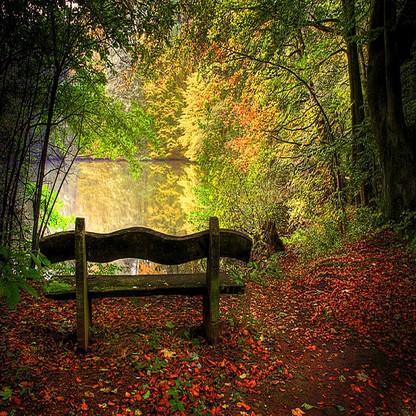obstacle: (34, 216, 258, 361)
